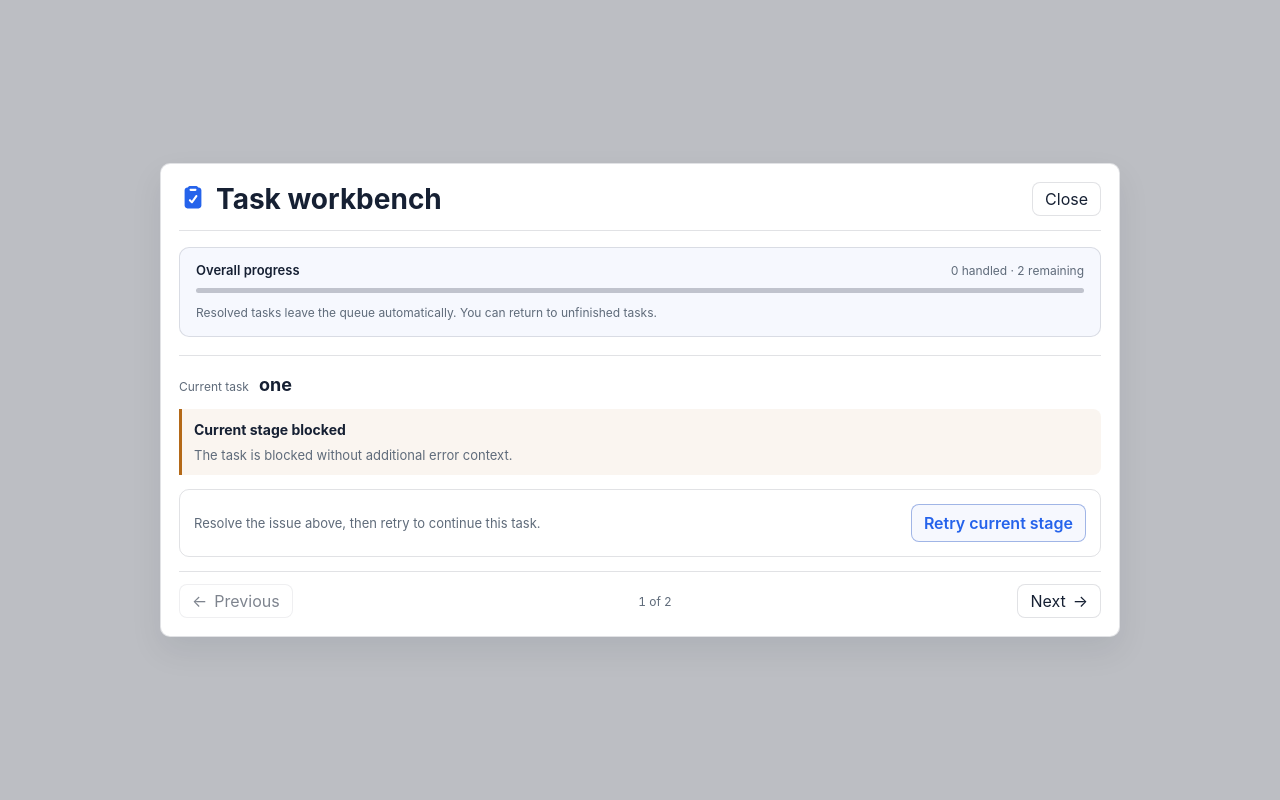
Scenario: processing queue › does not count a retry as resolved if the task is still blocked
The width and height of the screenshot is (1280, 800).
Click the button "Retry current stage" at (998, 524), box [911,504,1086,542]
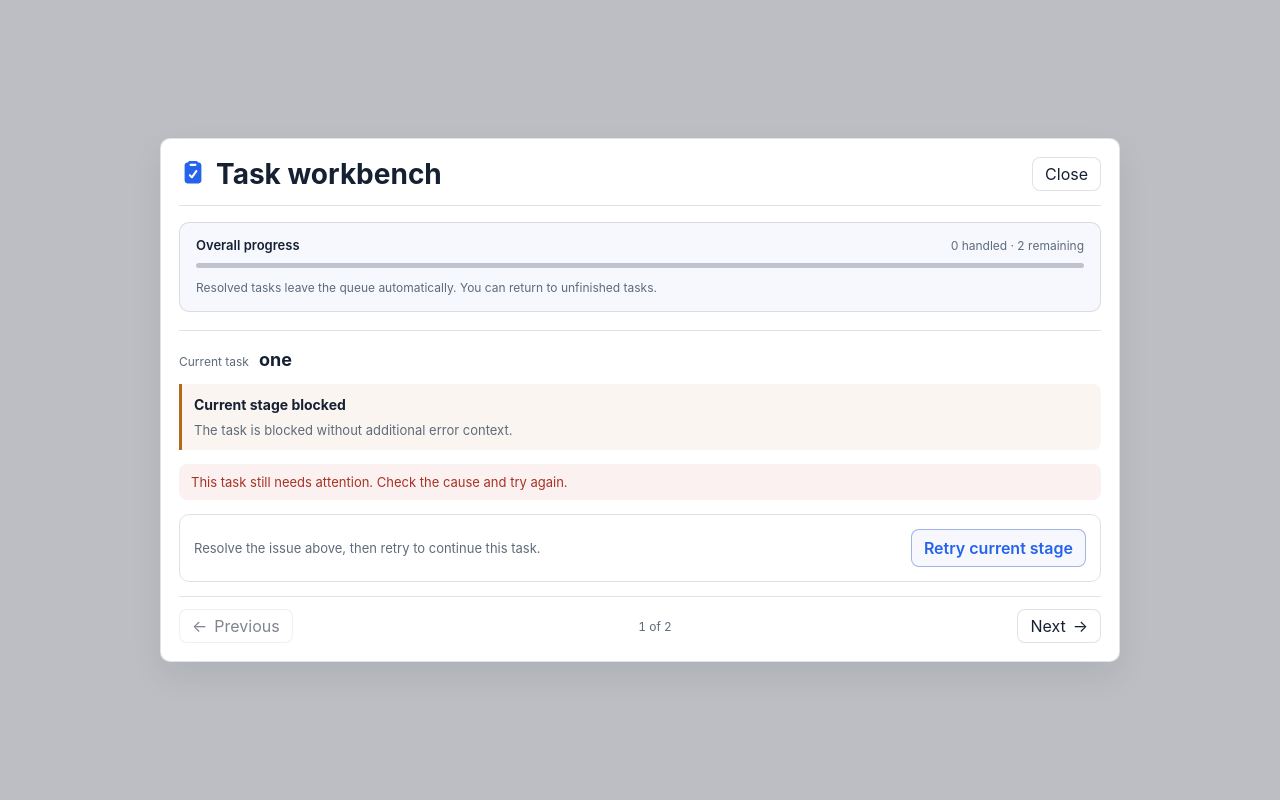
Expected: the heading "one" is shown, [259,349,292,370]
Now the message "This task still needs attention. Check the cause and try again." is shown, box [179,464,1101,500]
